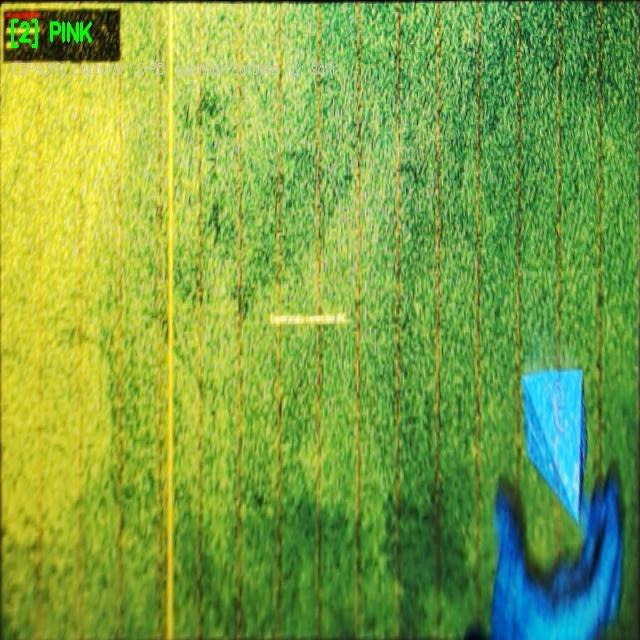pink: (522, 369, 587, 521)
